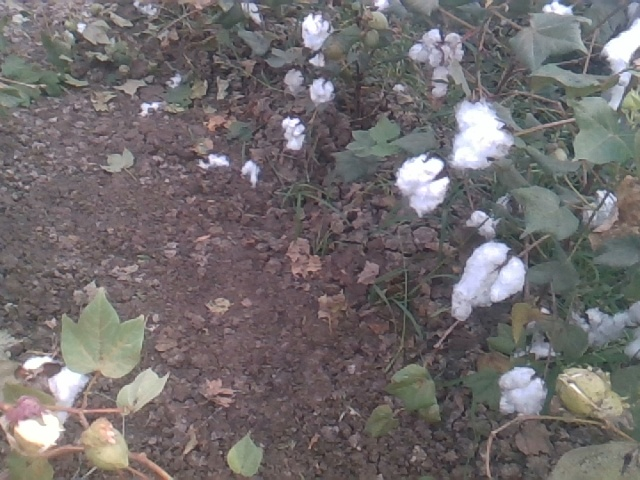cotton: (450, 241, 526, 322), (15, 356, 89, 427), (449, 98, 515, 171), (408, 27, 466, 97), (395, 151, 451, 219), (5, 398, 64, 458), (497, 365, 547, 419), (565, 308, 622, 354), (602, 15, 638, 77), (616, 300, 640, 363), (300, 13, 335, 54), (464, 210, 503, 246), (542, 2, 576, 38), (282, 116, 306, 151), (310, 78, 336, 107), (237, 1, 262, 26), (360, 1, 392, 17)
